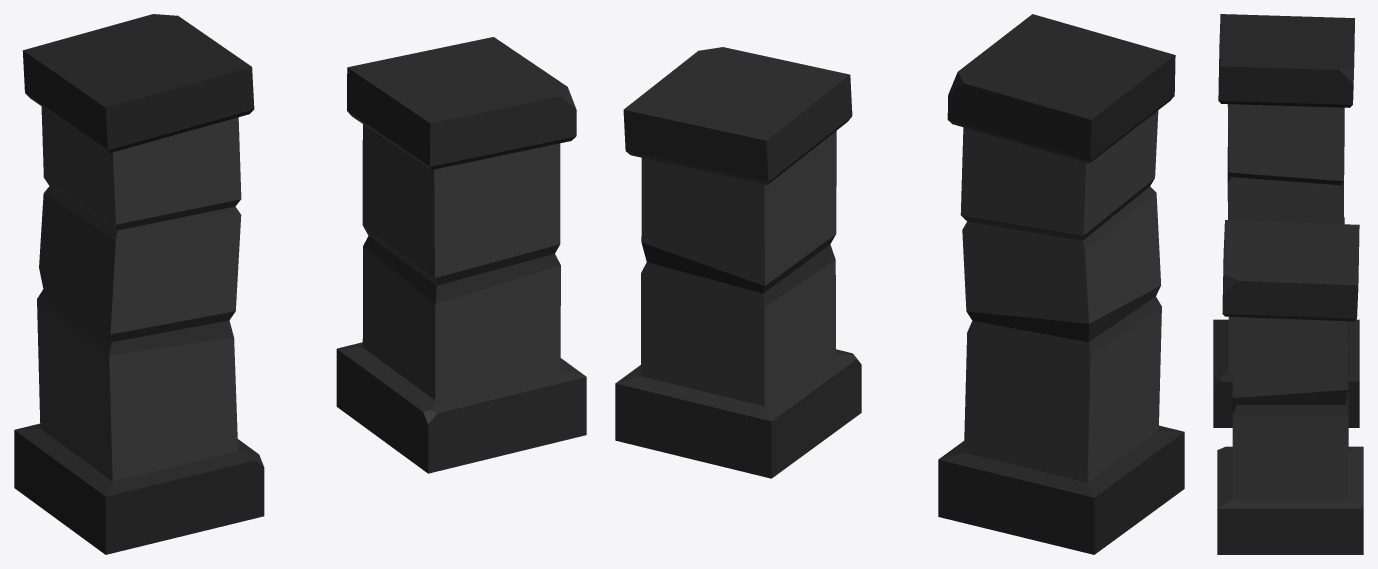
File: colones2.glb
3 renders of one model, left to right at view 1: azimuth 30°, elevation 25°; view 2: azimuth 150°, elevation 25°; view 3: azimuth 270°, elevation 25°, orthographic. The views are drawn at different scales.
Parts seen in each view (by area): view 1: column, column2; view 2: column, column2; view 3: column2, column.
Boxes of the visible parts, <box> form: column: <box>14,14,264,554</box>; column2: <box>336,37,586,473</box>; column: <box>938,14,1184,554</box>; column2: <box>615,47,861,478</box>; column2: <box>1217,220,1363,554</box>; column: <box>1213,14,1359,427</box>.
Bounding box in the file's own units: 6.1 × 5.4 × 2.06.
Materials: 1 (1 with a texture image).
